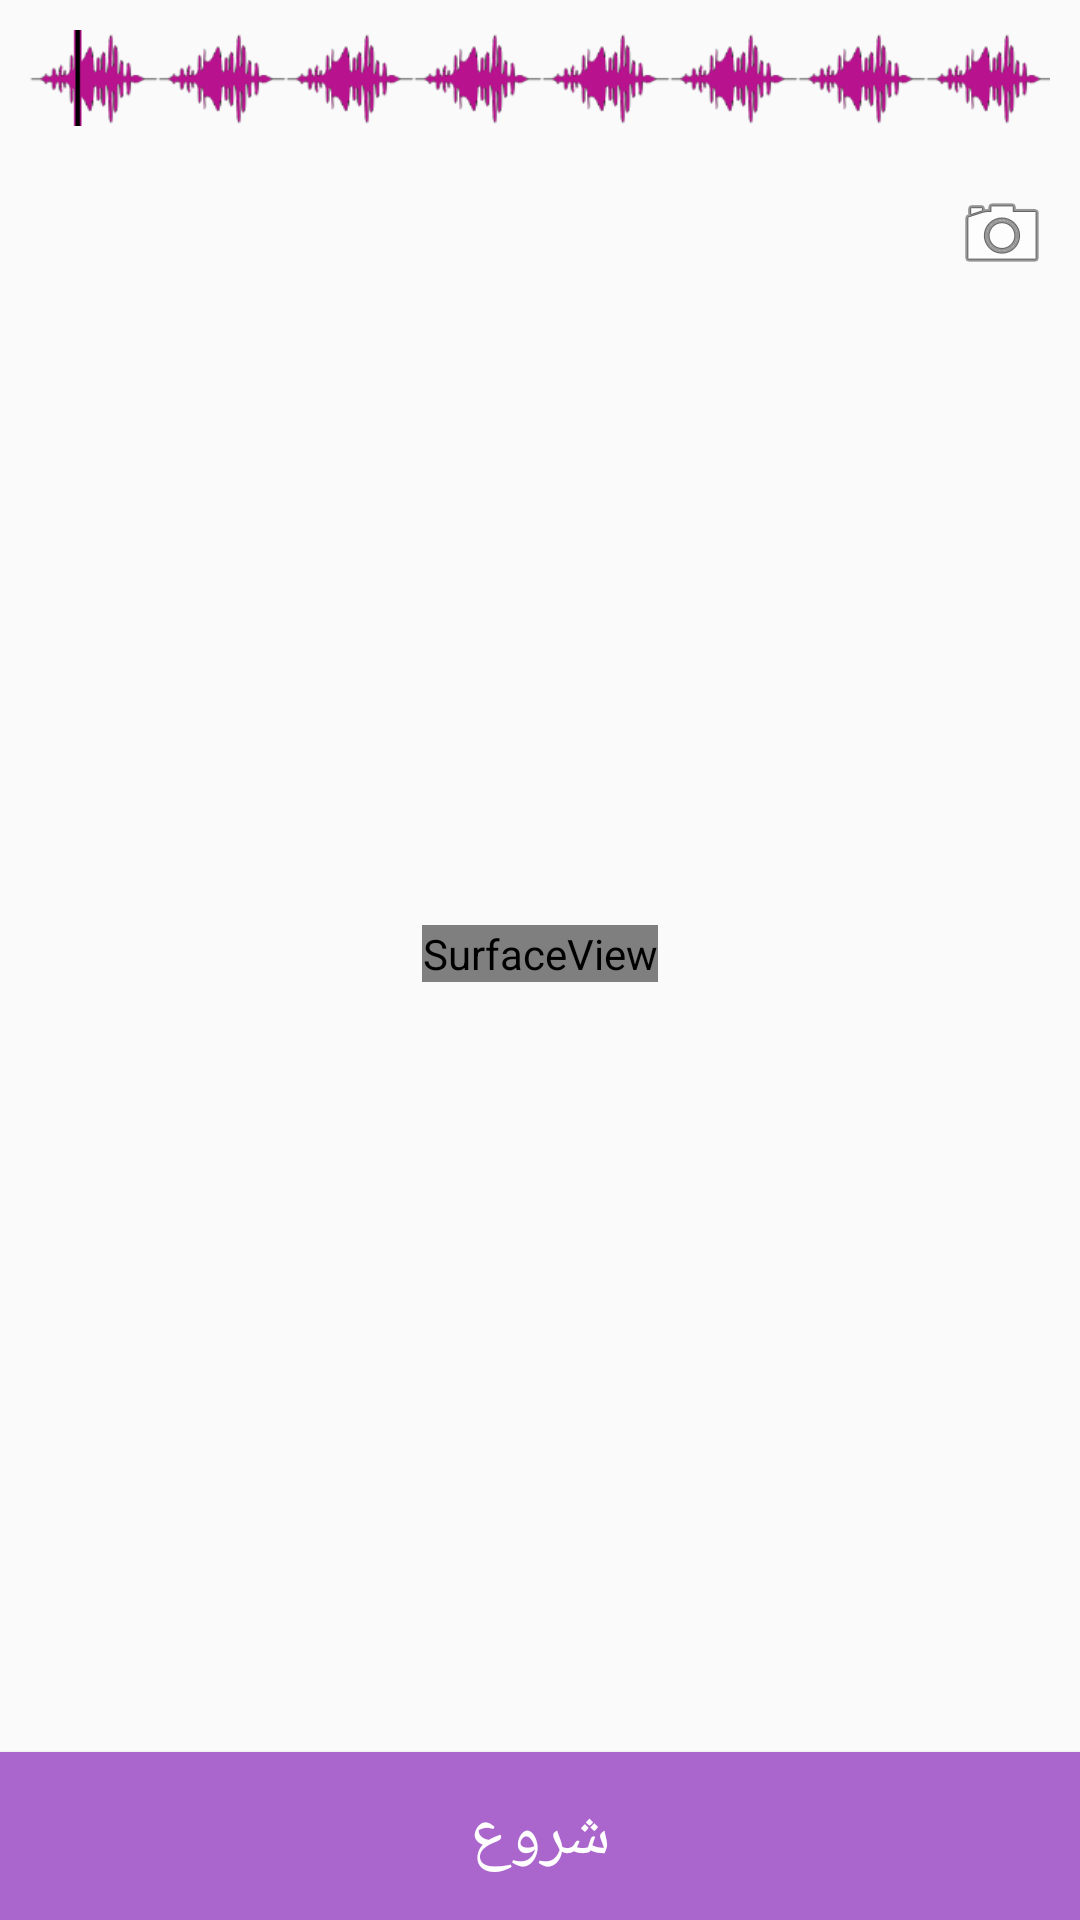

Named icons in this screenshot (1080 x 1920) and their bounding boxes, region(x1, y1, x2, y2):
camera: region(965, 203, 1039, 262)
